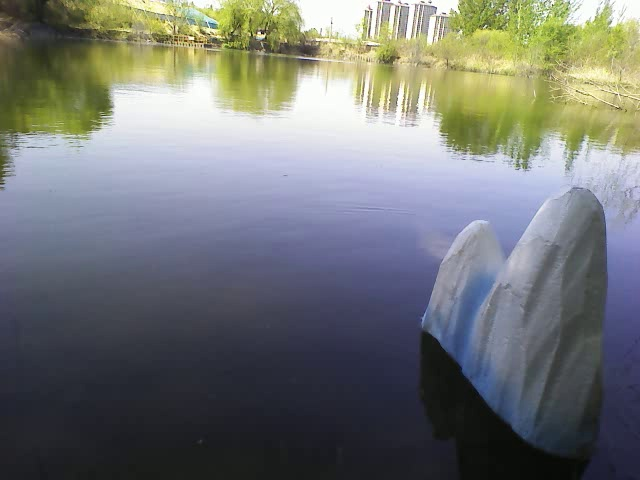iceberg: (415, 181, 611, 465)
